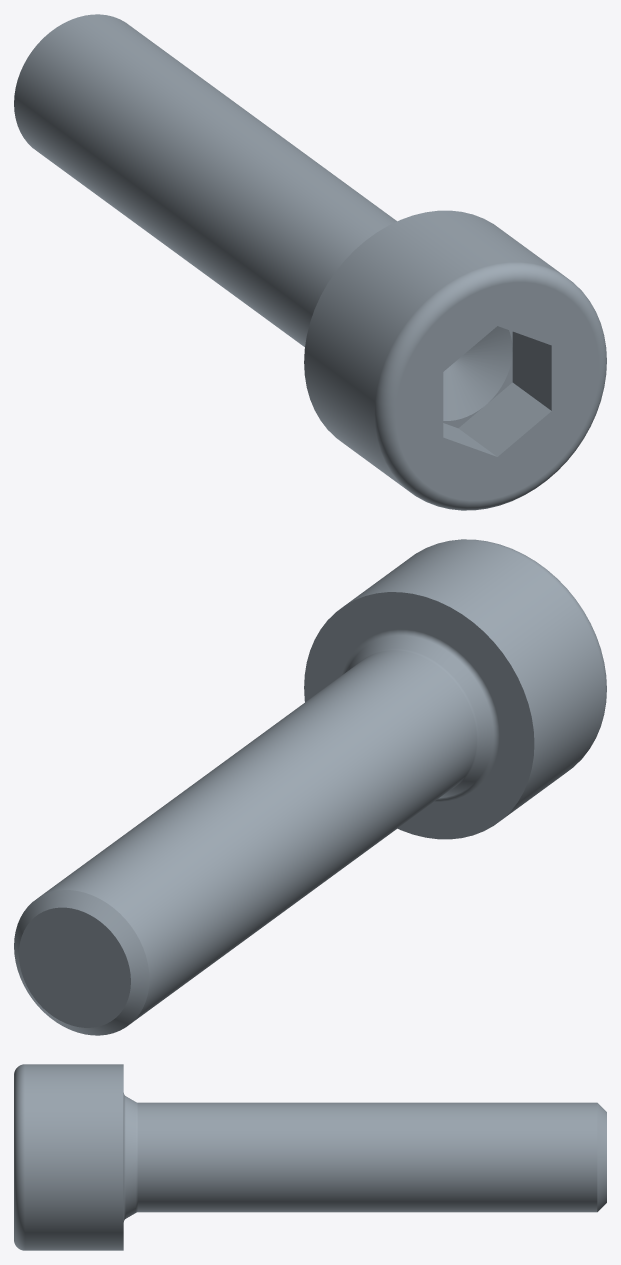
Rendered from Hex_socket_head_cap_screw_M5x0_80_x_22.obj.
3 renders of one model, top to bottom at view 1: azimuth 30°, elevation 25°; view 2: azimuth 150°, elevation 25°; view 3: azimuth 270°, elevation 25°, orthographic. The views are drawn at different scales.
Parts seen in each view (by area): view 1: mesh415, mesh422, mesh420, mesh421, mesh430, mesh428, mesh423; view 2: mesh415, mesh420, mesh419, mesh413, mesh414, mesh417, mesh418, mesh421; view 3: mesh415, mesh420, mesh421, mesh417, mesh414, mesh418, mesh416.
Part boxes in pixels (<box>): mesh415: <box>14,14,396,346</box>; mesh422: <box>396,282,598,500</box>; mesh420: <box>304,210,562,488</box>; mesh421: <box>374,262,606,510</box>; mesh430: <box>443,326,512,420</box>; mesh428: <box>458,382,551,456</box>; mesh423: <box>512,331,551,410</box>; mesh415: <box>40,650,476,1023</box>; mesh420: <box>346,540,604,819</box>; mesh419: <box>304,592,534,839</box>; mesh413: <box>19,907,130,1027</box>; mesh414: <box>14,890,149,1035</box>; mesh417: <box>347,635,493,797</box>; mesh418: <box>341,629,499,801</box>; mesh421: <box>416,539,606,761</box>; mesh415: <box>138,1102,597,1212</box>; mesh420: <box>25,1064,123,1250</box>; mesh421: <box>14,1064,24,1250</box>; mesh417: <box>126,1096,135,1218</box>; mesh414: <box>597,1103,606,1211</box>; mesh418: <box>123,1093,125,1221</box>; mesh416: <box>136,1102,138,1212</box>.
Size of the model in its own units: 0.0085 by 0.00849 by 0.027.
